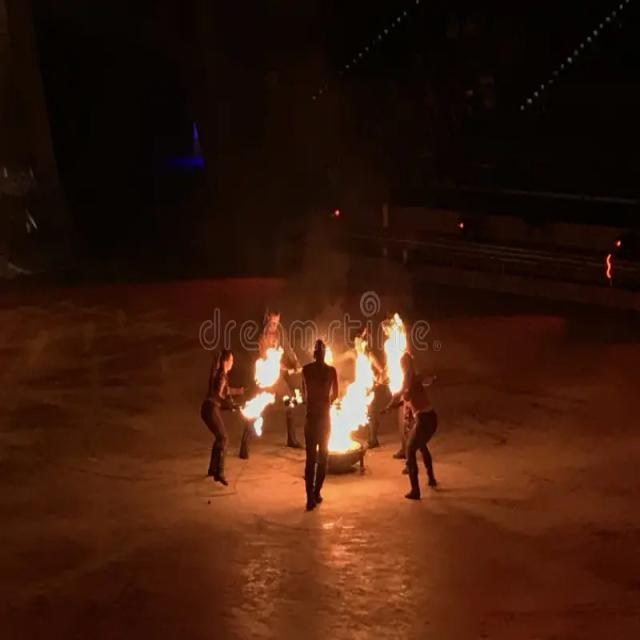fire: (328, 382, 369, 450), (384, 313, 407, 395), (255, 345, 284, 388)
